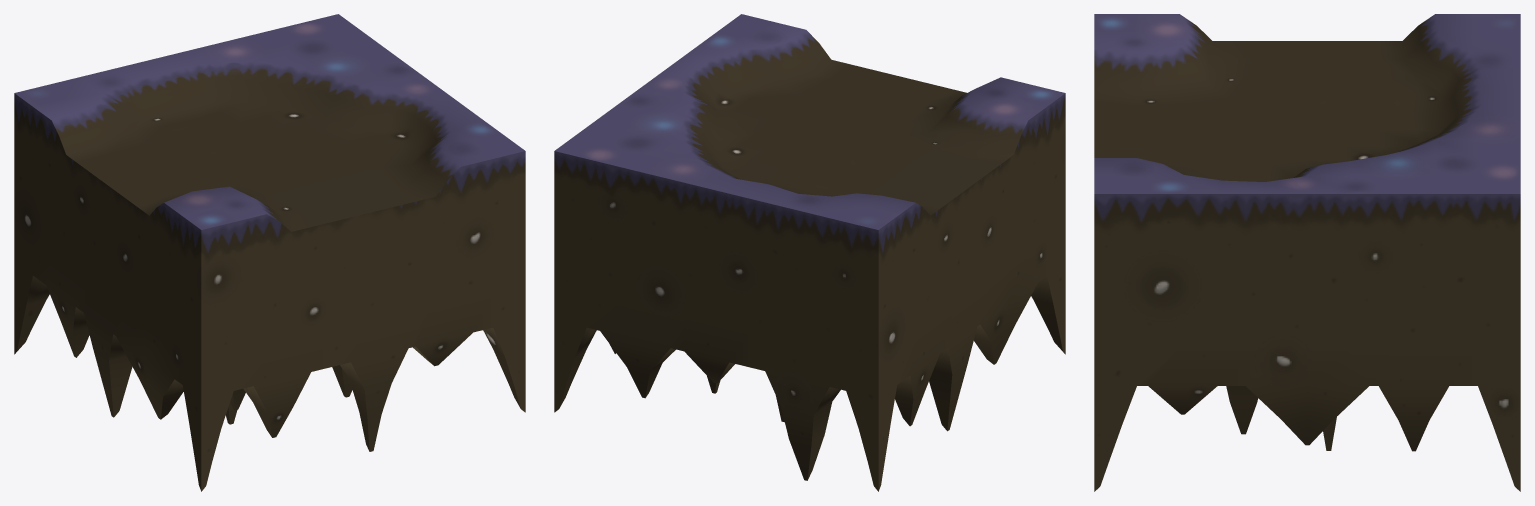
File: Island_CurvedLake_SEV_001.FBX
3 views of the same model, side by side, from view 1: azimuth 30°, elevation 25°; view 2: azimuth 150°, elevation 25°; view 3: azimuth 270°, elevation 25° (orthographic). The views are drawn at different scales.
Parts seen in each view (by area): view 1: CurvedLake; view 2: CurvedLake; view 3: CurvedLake.
Part boxes in pixels (<box>): CurvedLake: <box>14,14,525,491</box>; CurvedLake: <box>554,14,1065,491</box>; CurvedLake: <box>1094,14,1520,491</box>.
Size of the model in its own units: 10 by 8.73 by 10.
